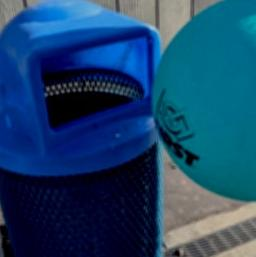algae: (154, 0, 256, 202)
